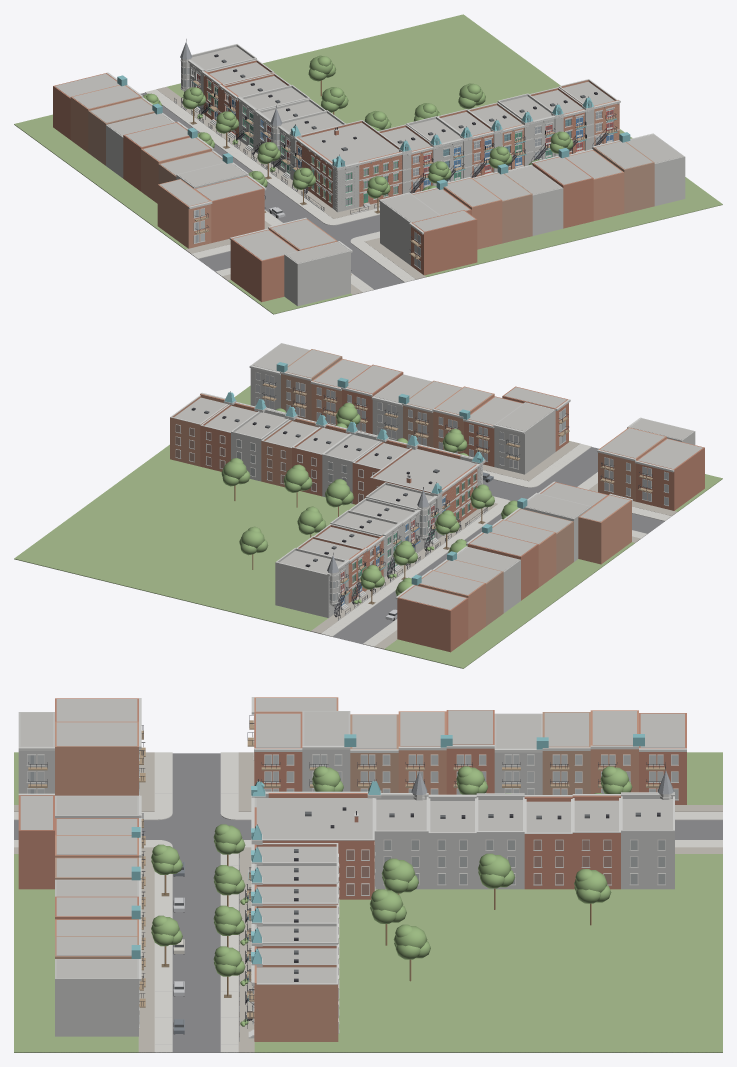
File: clay-montreal-plateau-rue-clay-v003.glb
3 views of the same model, one above another, from view 1: azimuth 30°, elevation 25°; view 2: azimuth 150°, elevation 25°; view 3: azimuth 270°, elevation 25° (orthographic). The views are drawn at different scales.
Visible parts, largest first — view 1: CLAY_MEMBRANE, CLAY_LAWN, CLAY_BRICK, CLAY_STONE, CLAY_BRICK2, CLAY_STONE2, CLAY_PLANTING, CLAY_CONTEXT2, CLAY_ASPHALT, CLAY_CONCRETE, CLAY_GLASS, CLAY_YARD (+8 smaller); view 2: CLAY_LAWN, CLAY_MEMBRANE, CLAY_BRICK, CLAY_STONE, CLAY_BRICK2, CLAY_STONE2, CLAY_PLANTING, CLAY_TRIM, CLAY_GLASS, CLAY_ASPHALT, CLAY_CONCRETE, CLAY_CONTEXT2 (+4 smaller); view 3: CLAY_LAWN, CLAY_MEMBRANE, CLAY_STONE, CLAY_BRICK, CLAY_ASPHALT, CLAY_BRICK2, CLAY_PLANTING, CLAY_STONE2, CLAY_CONCRETE, CLAY_YARD, CLAY_TRIM, CLAY_GLASS (+4 smaller).
Part boxes in pixels (x1,y1,x2,y2): CLAY_MEMBRANE: (55,46,682,263); CLAY_LAWN: (14,14,722,314); CLAY_BRICK: (53,60,593,302); CLAY_STONE: (106,45,685,306); CLAY_BRICK2: (70,80,624,250); CLAY_STONE2: (106,44,653,269); CLAY_PLANTING: (143,55,573,198); CLAY_CONTEXT2: (88,98,654,243); CLAY_ASPHALT: (140,92,403,289); CLAY_CONCRETE: (145,89,415,292); CLAY_GLASS: (181,67,612,268); CLAY_YARD: (156,87,425,294); CLAY_LAWN: (14,385,722,668); CLAY_MEMBRANE: (174,343,702,609); CLAY_BRICK: (200,364,704,652); CLAY_STONE: (231,343,695,617); CLAY_BRICK2: (170,358,666,638); CLAY_STONE2: (170,365,674,620); CLAY_PLANTING: (221,402,520,603); CLAY_TRIM: (175,372,668,607); CLAY_GLASS: (176,373,668,606); CLAY_ASPHALT: (333,447,664,644); CLAY_CONCRETE: (321,443,671,646); CLAY_CONTEXT2: (281,349,573,626); CLAY_LAWN: (14,752,722,1052); CLAY_MEMBRANE: (20,698,684,983); CLAY_STONE: (18,711,674,1036); CLAY_BRICK: (18,698,686,951); CLAY_ASPHALT: (14,753,722,1052); CLAY_BRICK2: (55,697,638,1041); CLAY_PLANTING: (151,766,632,1026); CLAY_STONE2: (18,697,686,1041); CLAY_CONCRETE: (14,752,722,1052); CLAY_YARD: (14,752,722,1052); CLAY_TRIM: (27,715,678,1033); CLAY_GLASS: (28,749,677,1026).
Bounding box in the file's own units: 118 × 16.1 × 118.
